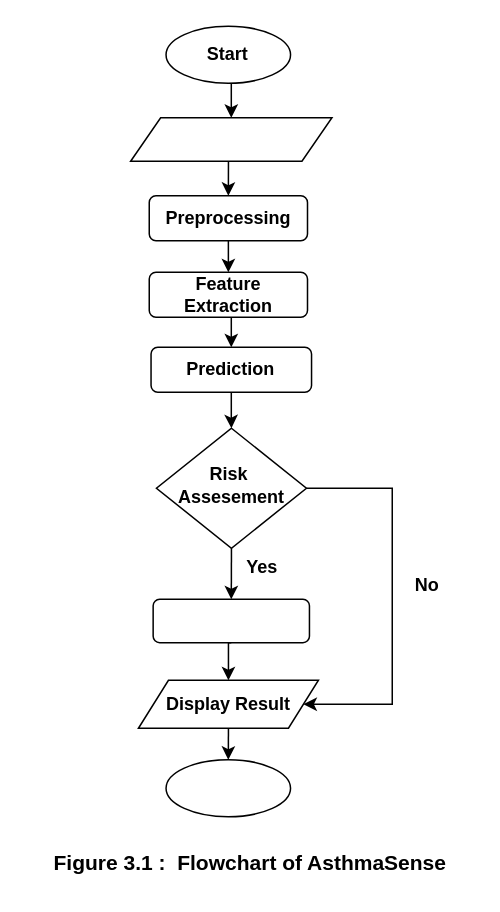
The diagram is 500 pixels wide and 912 high, and some of its shapes have lost their labels. Here are the shapes that lost their labels. From the top down, the centre of each, then its label:
(230,138): Data Collection
(230,620): Alert Generation
(228,787): End
